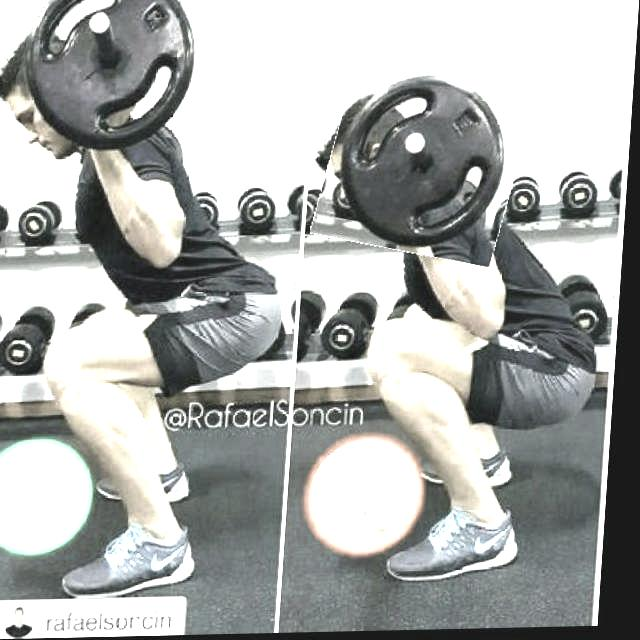barbell: (320, 56, 535, 265)
